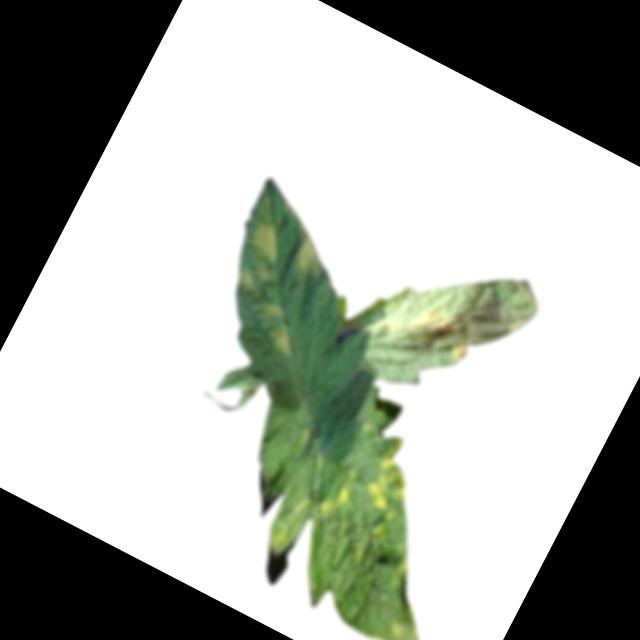Leaf_Mold: (359, 438, 436, 527), (401, 290, 483, 363), (245, 297, 314, 361), (239, 210, 299, 269), (287, 226, 342, 284), (313, 473, 357, 525), (368, 608, 426, 640), (231, 260, 272, 301)
